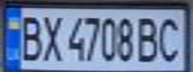0: (100, 14, 118, 62)
4: (63, 12, 84, 62)
7: (81, 12, 103, 62)
8: (115, 14, 139, 63)
B: (15, 11, 45, 62), (136, 14, 163, 63)
C: (154, 14, 187, 63)
X: (39, 11, 63, 62)
